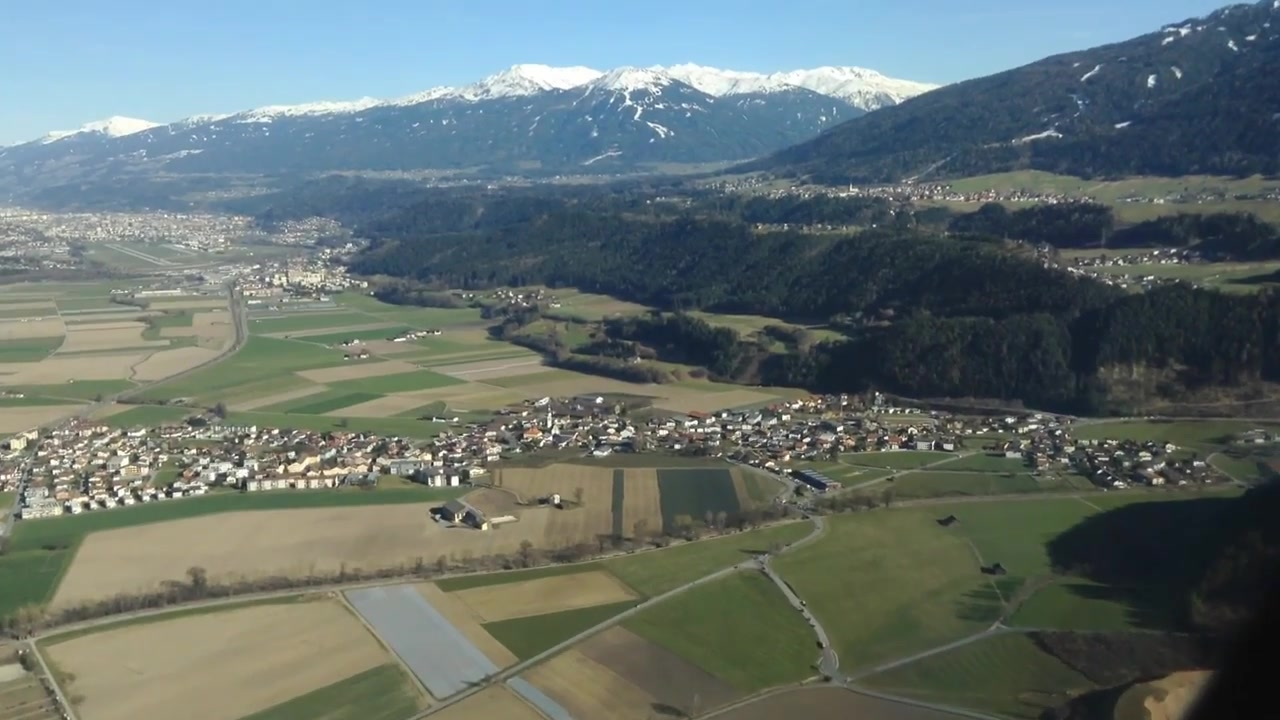runway: (103, 242, 177, 267)
